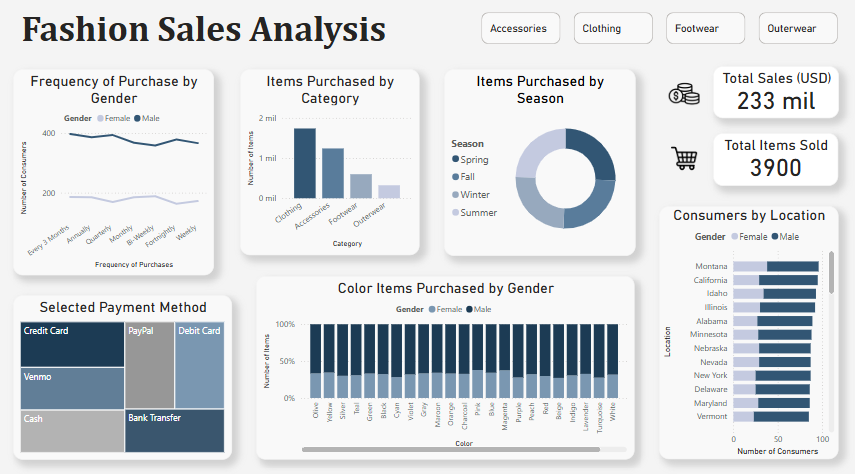

Layout of this report page (visuals, bound fields, positions):
{"tool":"powerbi","page":{"name":"Fashion Sales","canvas":[1280,720],"ordinal":0},"visuals":[{"type":"donutChart","title":"Items Purchased by Season","fields":{"Category":["Shopping_Trends.Season"],"Y":["CountNonNull(Shopping_Trends.Item Purchased)"]},"box":[663.9,109,285.7,279.1],"z":0},{"type":"textbox","box":[28.1,9.9,588,94.1],"z":1000},{"type":"clusteredColumnChart","title":"Items Purchased by Category","fields":{"Y":["CountNonNull(Shopping_Trends.Item Purchased)"],"Category":["Shopping_Trends.Category"]},"box":[360,109.4,267.8,277.9],"z":2000},{"type":"barChart","title":"Consumers by Location","fields":{"Series":["Shopping_Trends.Gender"],"Category":["Shopping_Trends.Location"],"Y":["CountNonNull(Shopping_Trends.Location)"]},"box":[984.4,313.8,267.6,378.2],"z":3000},{"type":"lineChart","title":"Frequency of Purchase by Gender","fields":{"Category":["Shopping_Trends.Frequency of Purchases"],"Y":["CountNonNull(Shopping_Trends.Gender)"],"Series":["Shopping_Trends.Gender"]},"box":[21.6,109.4,299.5,308.2],"z":4000},{"type":"treemap","title":"Selected Payment Method","fields":{"Group":["Shopping_Trends.Payment Method"],"Values":["CountNonNull(Shopping_Trends.Payment Method)"]},"box":[21.6,446.4,326.9,246.2],"z":5000},{"type":"hundredPercentStackedColumnChart","title":"Color Items Purchased by Gender","fields":{"Series":["Shopping_Trends.Gender"],"Category":["Shopping_Trends.Color"],"Y":["CountNonNull(Shopping_Trends.Color)"]},"box":[383.2,417.9,564.9,274.2],"z":6000},{"type":"card","title":"Total Sales (USD)","fields":{"Values":["Sum(Shopping_Trends.Purchase Amount (USD))"]},"box":[1065.3,104.1,188.3,77.6],"z":7000},{"type":"card","title":"Total Items Sold","fields":{"Values":["CountNonNull(Shopping_Trends.Item Purchased)"]},"box":[1065.3,204.8,186.6,79.3],"z":8000},{"type":"advancedSlicerVisual","fields":{"Values":["Shopping_Trends.Category"]},"box":[715.1,19.8,538.4,57.8],"z":9000},{"type":"image","box":[996.5,217.4,50.4,49],"z":10000},{"type":"image","box":[992.2,117.2,60,56.1],"z":11000}]}

Visuals, with their boxes in screenshot pixels (x1, y1, x2, y2), scaled from the page's 1280x720 canvas onto the 855x474 screenshot:
"Items Purchased by Season" donutChart: 443/72/634/255
textbox: 19/7/412/68
"Items Purchased by Category" clusteredColumnChart: 240/72/419/255
"Consumers by Location" barChart: 658/207/836/456
"Frequency of Purchase by Gender" lineChart: 14/72/214/275
"Selected Payment Method" treemap: 14/294/233/456
"Color Items Purchased by Gender" hundredPercentStackedColumnChart: 256/275/633/456
"Total Sales (USD)" card: 712/69/837/120
"Total Items Sold" card: 712/135/836/187
advancedSlicerVisual - Shopping_Trends.Category: 478/13/837/51
image: 666/143/699/175
image: 663/77/703/114
